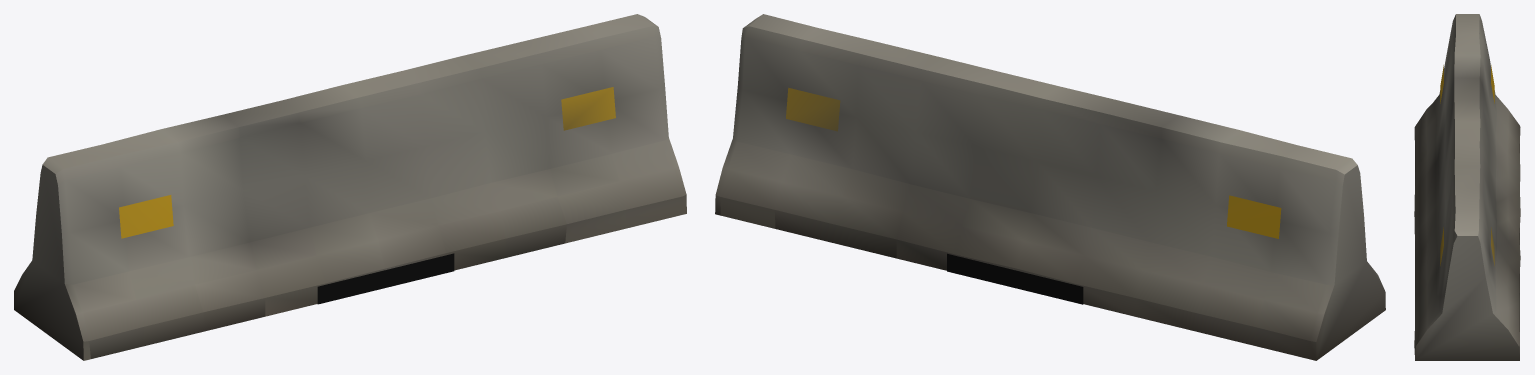
The model's file is barrier.glb.
3 renders of one model, left to right at view 1: azimuth 30°, elevation 25°; view 2: azimuth 150°, elevation 25°; view 3: azimuth 270°, elevation 25°, orthographic. The views are drawn at different scales.
Parts seen in each view (by area): view 1: Barrier; view 2: Barrier; view 3: Barrier.
Boxes of the visible parts, left/top/right/bottom form: Barrier: left=14, top=14, right=686, bottom=360; Barrier: left=715, top=14, right=1385, bottom=360; Barrier: left=1414, top=14, right=1520, bottom=360.
Size of the model in its own units: 3 by 0.81 by 0.612.
